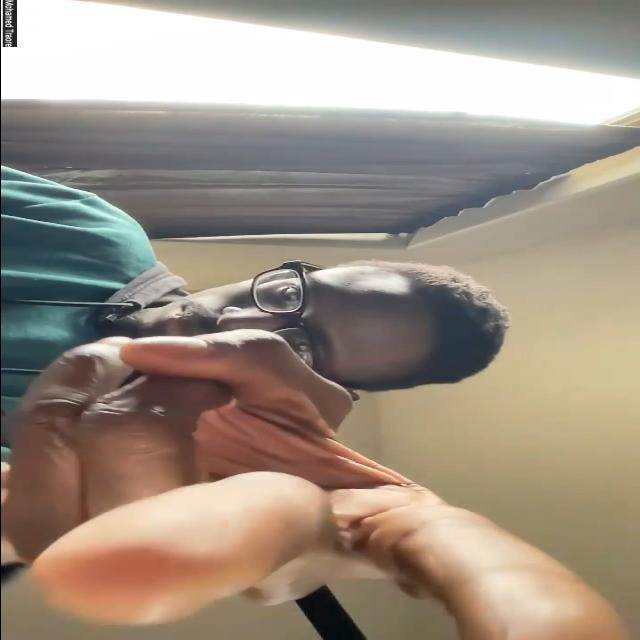Scissors: (0, 326, 624, 640)
